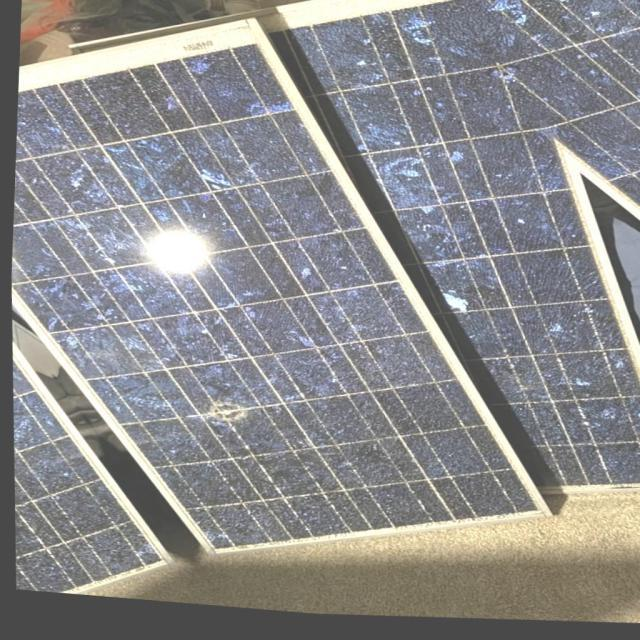cracked: (11, 0, 640, 588)
